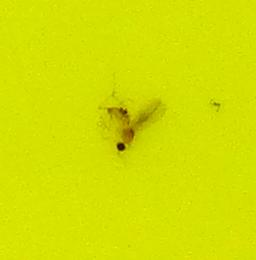Brachycera: (100, 100, 156, 160)
